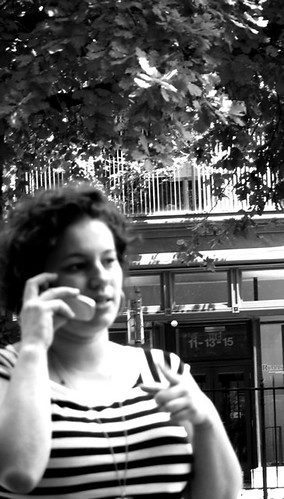phone: (20, 262, 91, 329)
talk: (17, 248, 126, 345)
